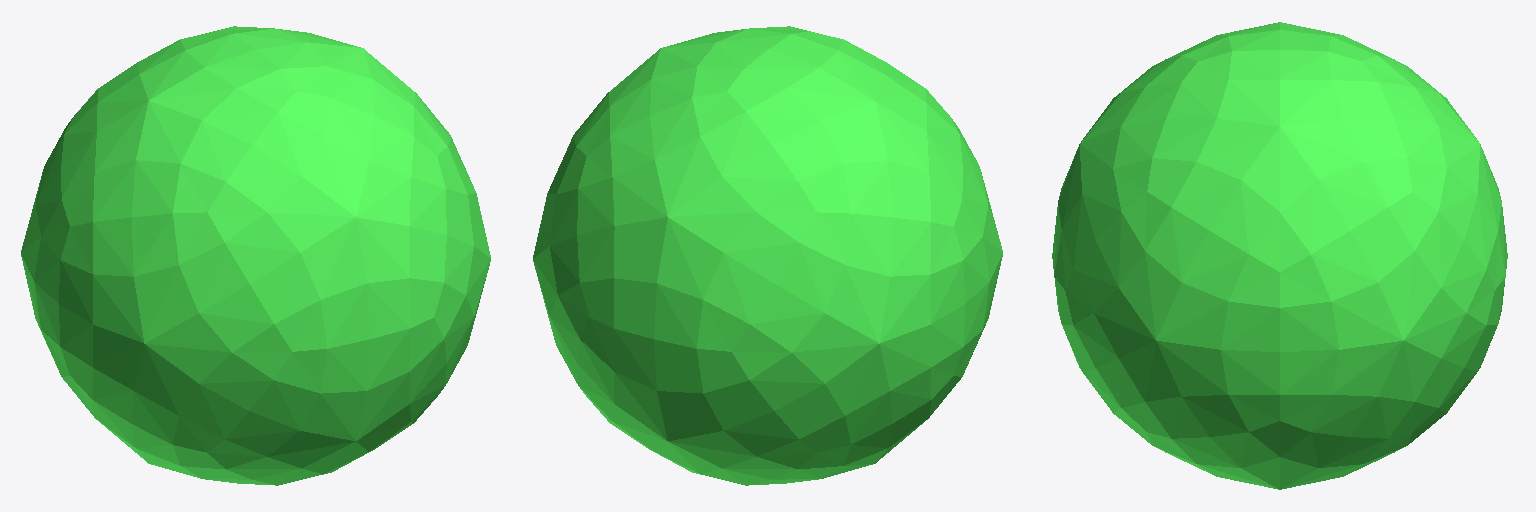
The picture shows the model from 3 angles: view 1: azimuth 30°, elevation 25°; view 2: azimuth 150°, elevation 25°; view 3: azimuth 270°, elevation 25°; orthographic projection.
Parts seen in each view (by area): view 1: pSolid1; view 2: pSolid1; view 3: pSolid1.
Part boxes in pixels (left/top/right/bottom): pSolid1: left=21, top=26, right=490, bottom=485; pSolid1: left=533, top=26, right=1002, bottom=485; pSolid1: left=1052, top=22, right=1507, bottom=489.
Size of the model in its own units: 1.46 by 1.46 by 1.46.
1 materials, 1 textured.